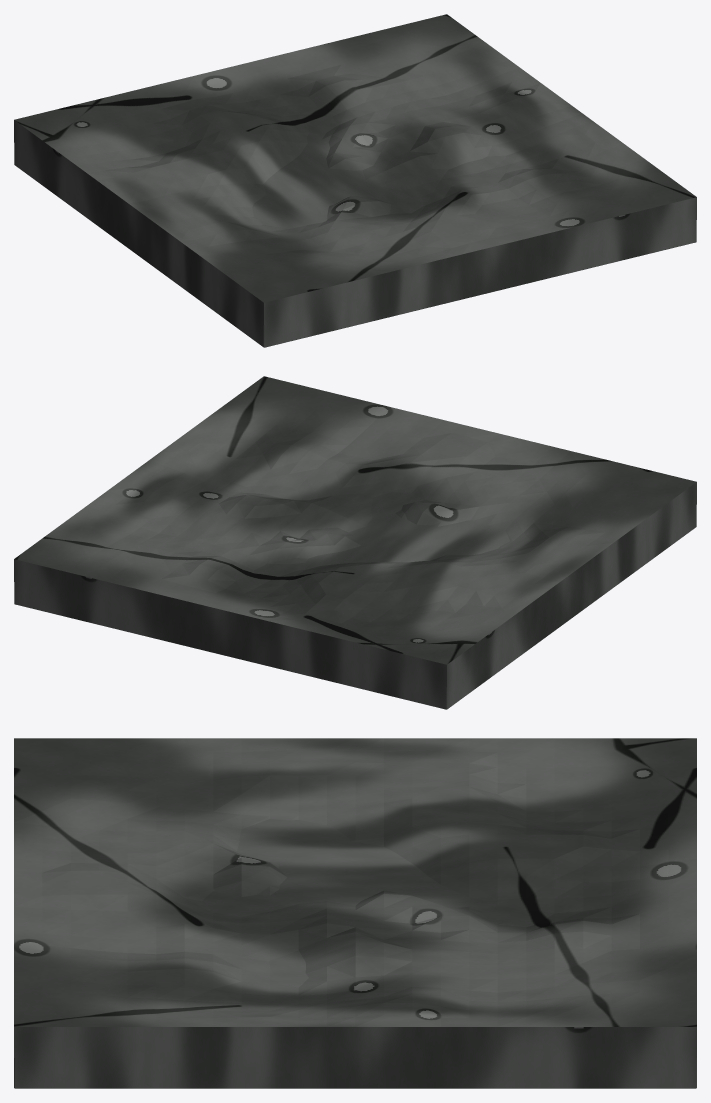
Rendered from floor_cave_a.glb.
The picture shows the model from 3 angles, top to bottom: view 1: azimuth 30°, elevation 25°; view 2: azimuth 150°, elevation 25°; view 3: azimuth 270°, elevation 25°; orthographic projection. The views are drawn at different scales.
Parts seen in each view (by area): view 1: floor_cave_a; view 2: floor_cave_a; view 3: floor_cave_a.
Part boxes in pixels (x1=…): floor_cave_a: x1=14, y1=14, x2=696, y2=347; floor_cave_a: x1=14, y1=376, x2=696, y2=709; floor_cave_a: x1=14, y1=738, x2=696, y2=1088.
Size of the model in its own units: 1 by 0.1 by 1.
1 material, 1 textured.
